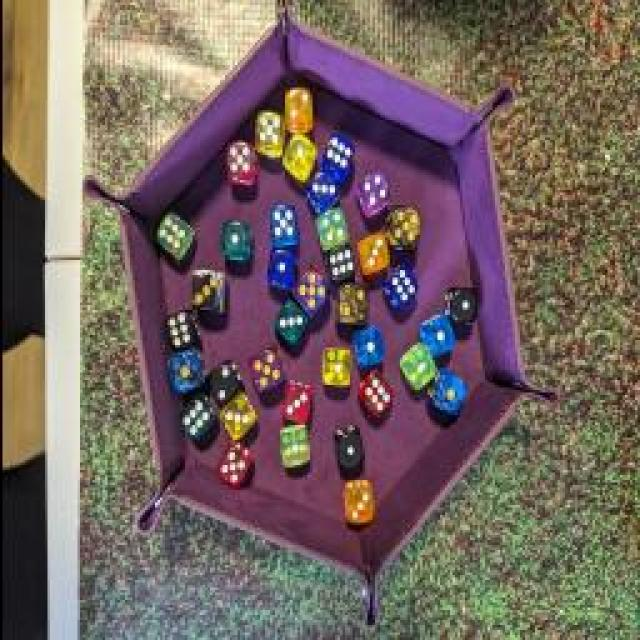dice_1: (399, 335, 439, 395), (274, 129, 321, 179), (275, 419, 313, 479), (166, 344, 206, 398), (417, 312, 455, 362), (350, 320, 388, 370), (216, 215, 252, 267), (319, 342, 356, 392), (261, 248, 301, 292), (330, 426, 365, 472)
dice_2: (278, 80, 314, 140), (200, 358, 240, 408), (332, 280, 370, 330)
dice_3: (185, 264, 225, 324), (214, 394, 258, 444), (272, 372, 312, 426), (270, 298, 308, 354), (304, 163, 344, 215), (351, 230, 391, 278), (336, 478, 372, 524)
dice_4: (314, 202, 348, 262), (354, 170, 388, 215)
dice_5: (288, 265, 330, 323), (210, 432, 250, 492), (247, 340, 285, 398), (382, 196, 420, 252), (250, 108, 285, 164), (262, 199, 296, 251), (224, 138, 258, 190)
dice_6: (148, 206, 194, 259), (356, 362, 394, 422), (176, 392, 212, 450), (320, 128, 355, 174), (160, 310, 200, 350), (325, 240, 360, 285), (380, 264, 415, 308)
